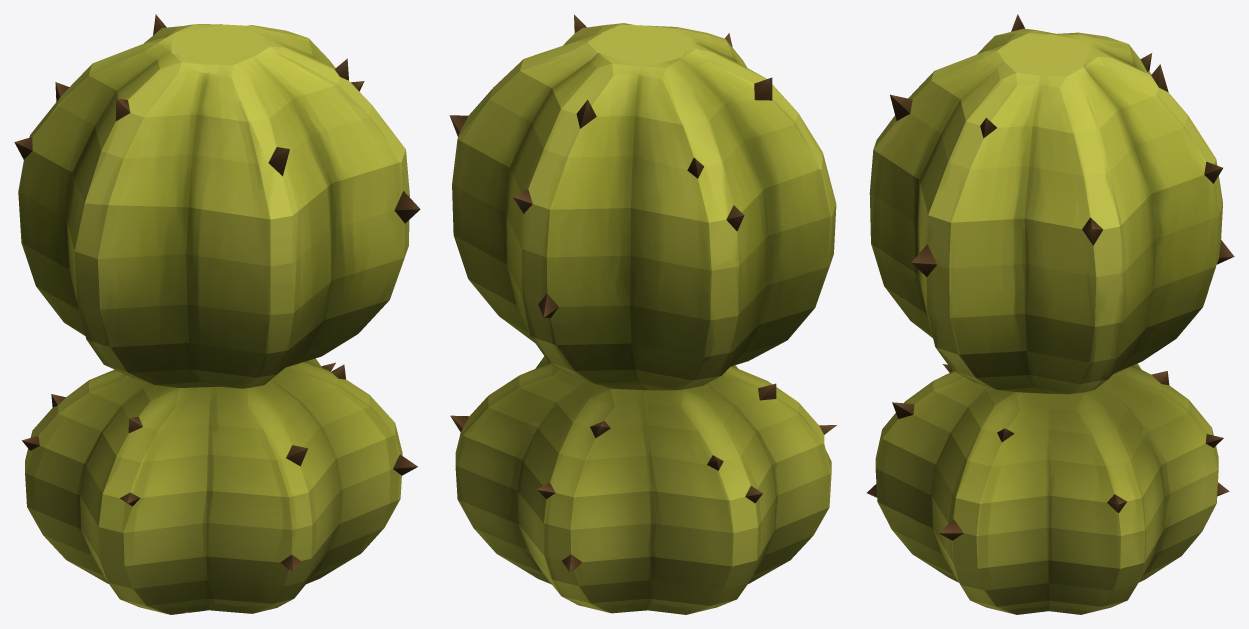
File: 선인장3.FBX
3 renders of one model, left to right at view 1: azimuth 30°, elevation 25°; view 2: azimuth 150°, elevation 25°; view 3: azimuth 270°, elevation 25°, orthographic. The views are drawn at different scales.
Parts seen in each view (by area): view 1: Object001; view 2: Object001; view 3: Object001.
Boxes of the visible parts, x1,y1,x2,y2 form: Object001: (14,14,420,614); Object001: (449,14,836,614); Object001: (867,14,1234,614).
Size of the model in its own units: 155 by 233 by 150.
Materials: 1 (1 with a texture image).
